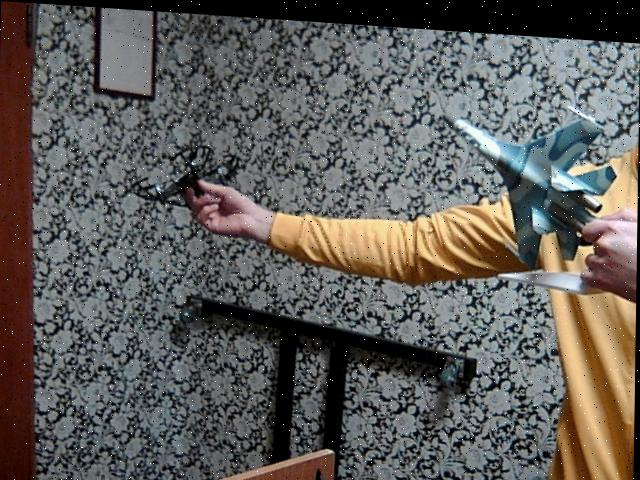drone: (107, 120, 260, 215)
